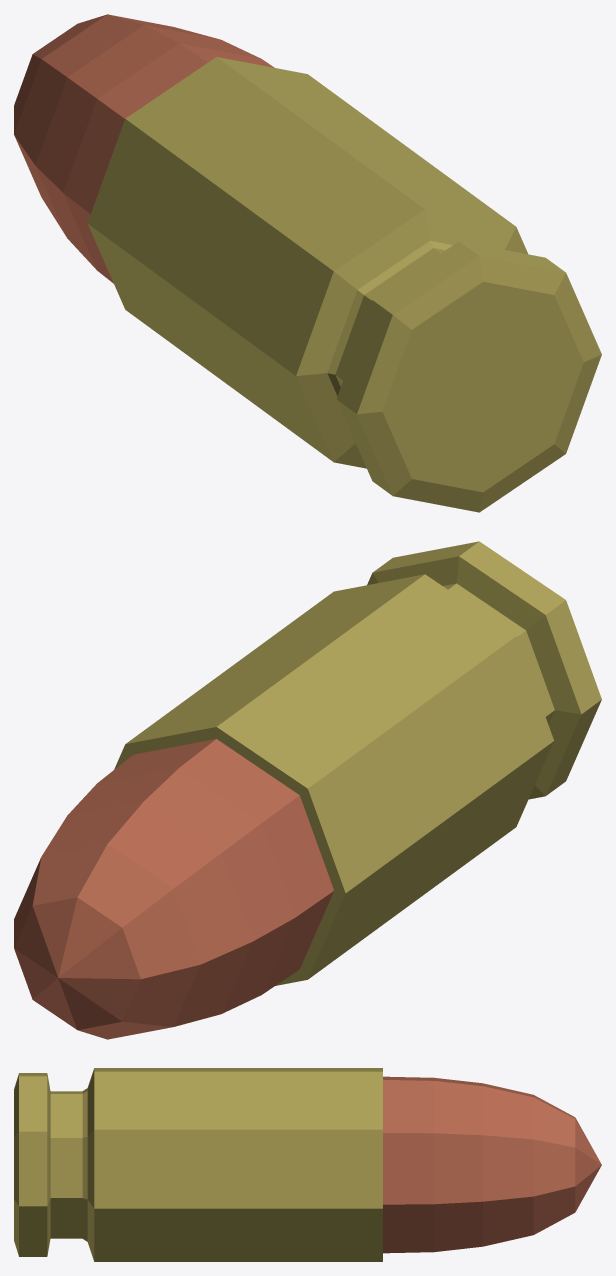
The model's file is bullet.glb.
3 renders of one model, top to bottom at view 1: azimuth 30°, elevation 25°; view 2: azimuth 150°, elevation 25°; view 3: azimuth 270°, elevation 25°, orthographic. The views are drawn at different scales.
Visible parts, largest first — view 1: bullet; view 2: bullet; view 3: bullet.
Boxes of the visible parts, <box> form: bullet: <box>14,14,601,512</box>; bullet: <box>14,541,601,1039</box>; bullet: <box>14,1068,601,1261</box>.
Bounding box in the file's own units: 0.14 × 0.14 × 0.3991.
